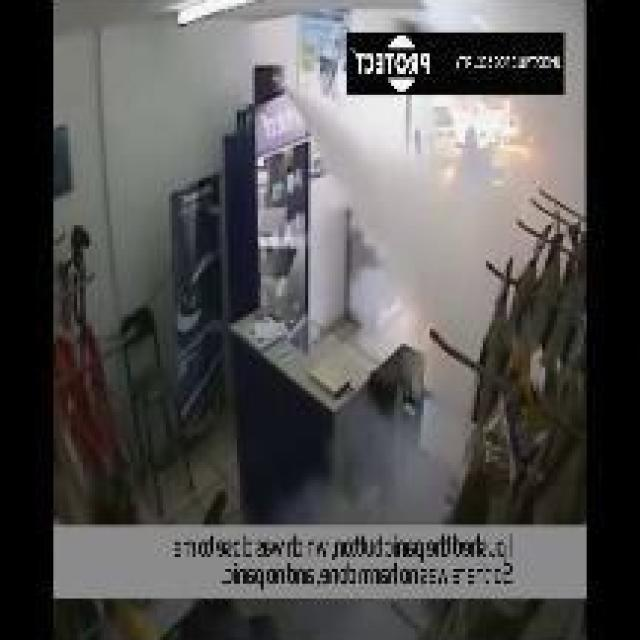fire: (492, 0, 587, 222), (386, 160, 496, 323)
